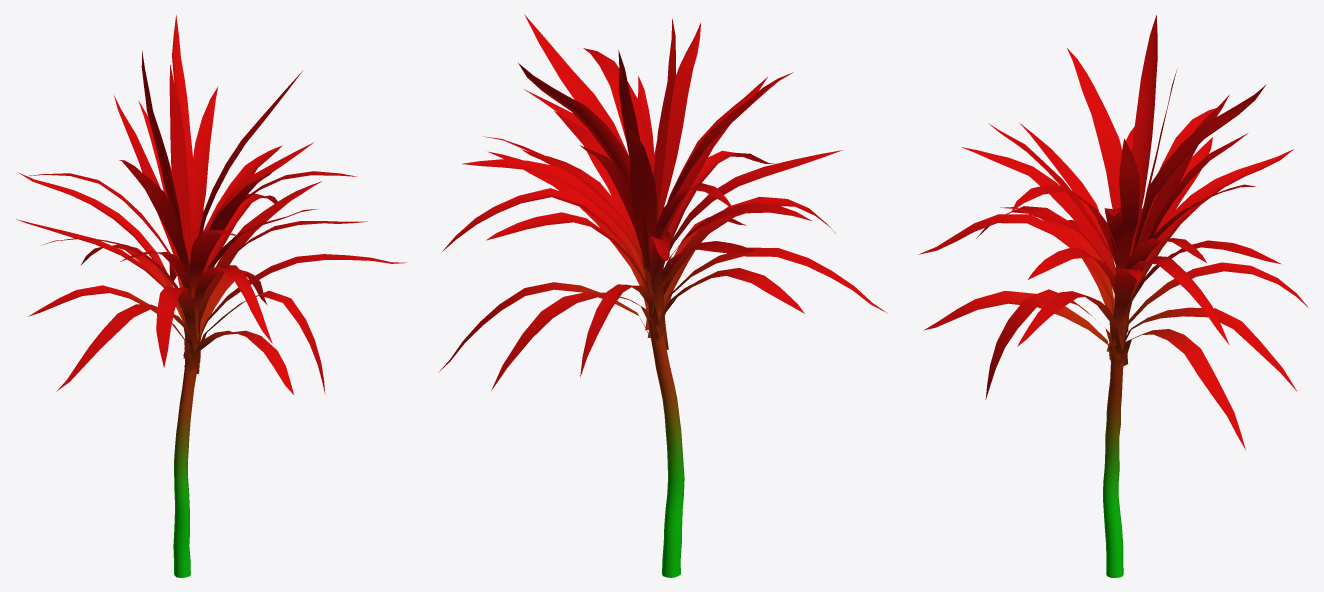
File: SM_Palm01_LOD1.fbx
3 views of the same model, side by side, from view 1: azimuth 30°, elevation 25°; view 2: azimuth 150°, elevation 25°; view 3: azimuth 270°, elevation 25° (orthographic). The views are drawn at different scales.
Visible parts, largest first — view 1: _onyj_Var1_LOD3; view 2: _onyj_Var1_LOD3; view 3: _onyj_Var1_LOD3.
Boxes of the visible parts, x1,y1,x2,y2 form: _onyj_Var1_LOD3: (16, 15, 406, 577); _onyj_Var1_LOD3: (438, 14, 887, 577); _onyj_Var1_LOD3: (918, 15, 1308, 577).
Bounding box in the file's own units: 123 × 178 × 115.
